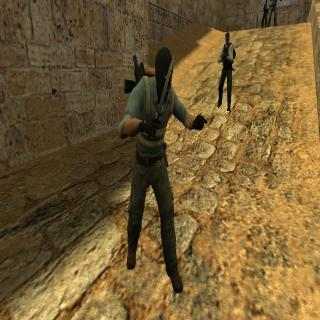T-Body: (116, 44, 189, 288)
T-Head: (152, 46, 175, 97)
